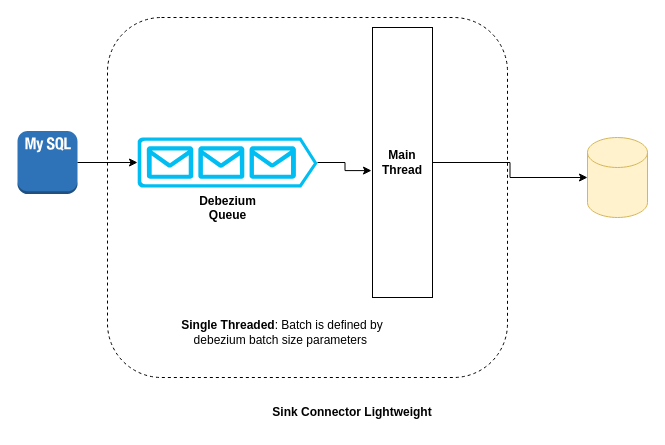
This 665x445 diagram has some shape labels left out. Here are the shapes that lost their labels. From the top down, the centre of each, then its label:
At (47,162): "binlogs".
At (617,177): "ClickHouse".
